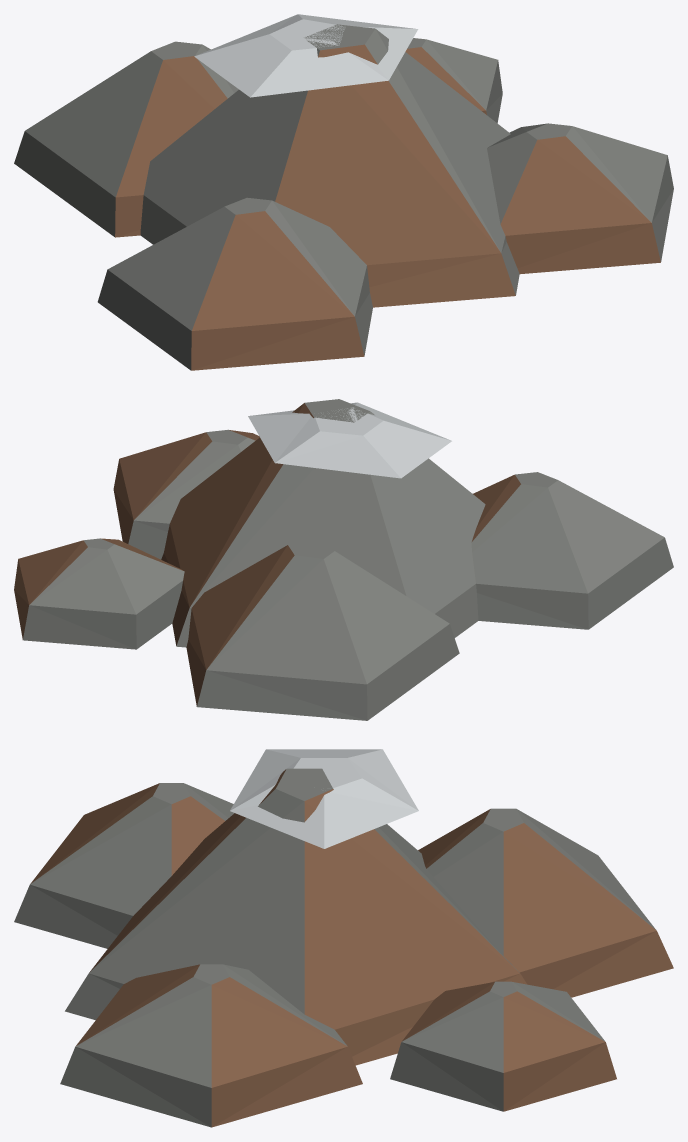
The model's file is slag_heap.glb.
The picture shows the model from 3 angles, top to bottom: view 1: azimuth 30°, elevation 25°; view 2: azimuth 150°, elevation 25°; view 3: azimuth 270°, elevation 25°; orthographic projection. The views are drawn at different scales.
Visible parts, largest first — view 1: slag_heap; view 2: slag_heap; view 3: slag_heap.
Part boxes in pixels (x1,y1,x2,y2): slag_heap: [14, 14, 673, 370]; slag_heap: [14, 399, 673, 720]; slag_heap: [14, 749, 673, 1127].
Bounding box in the file's own units: 2.88 × 0.95 × 2.88.
